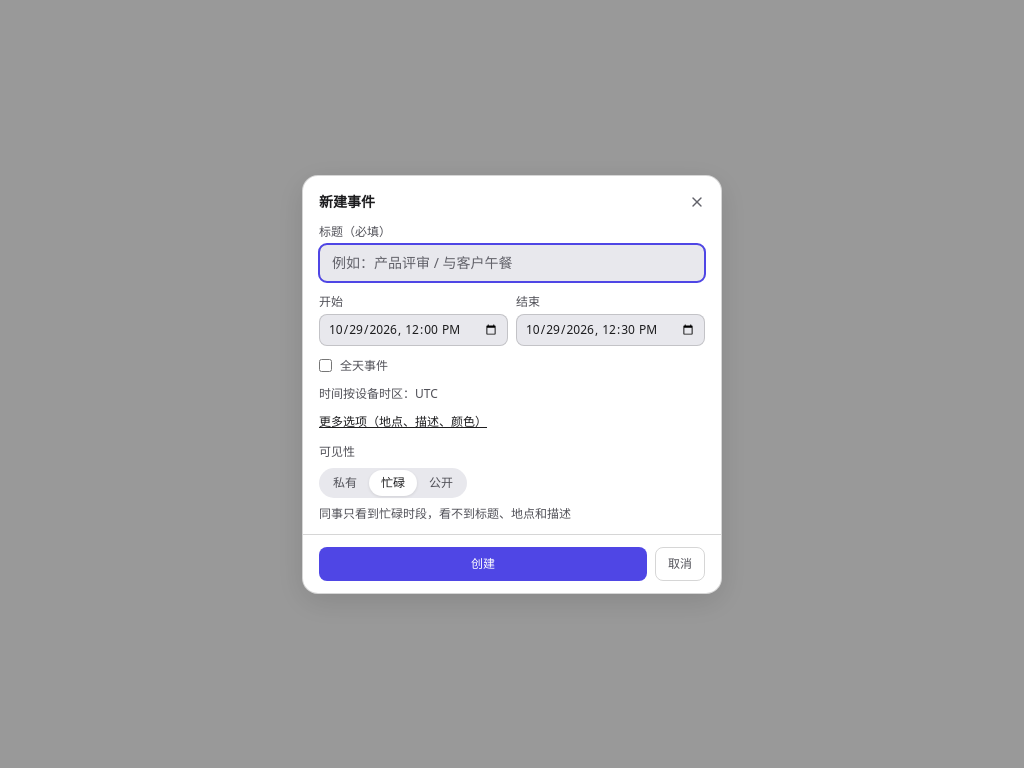
Test: EventEditor 新建模式（回归：点“新增”无法录入文字） › 结束时间不晚于开始时间时拒绝保存
Type "时间倒挂" into the field named "事件标题".
click(512, 262); type("时间倒挂")  # box [319, 244, 705, 282]
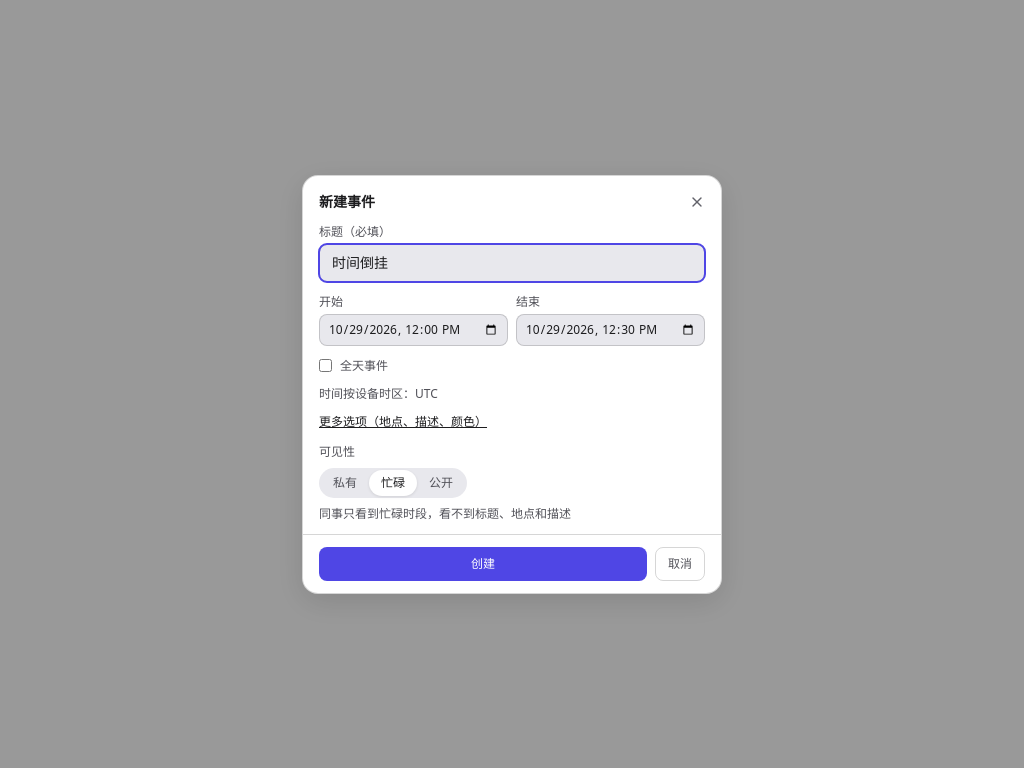
Replace the text in the field named "开始时间" with "2026-10-26T15:00" at (414, 330), box [319, 314, 508, 346]
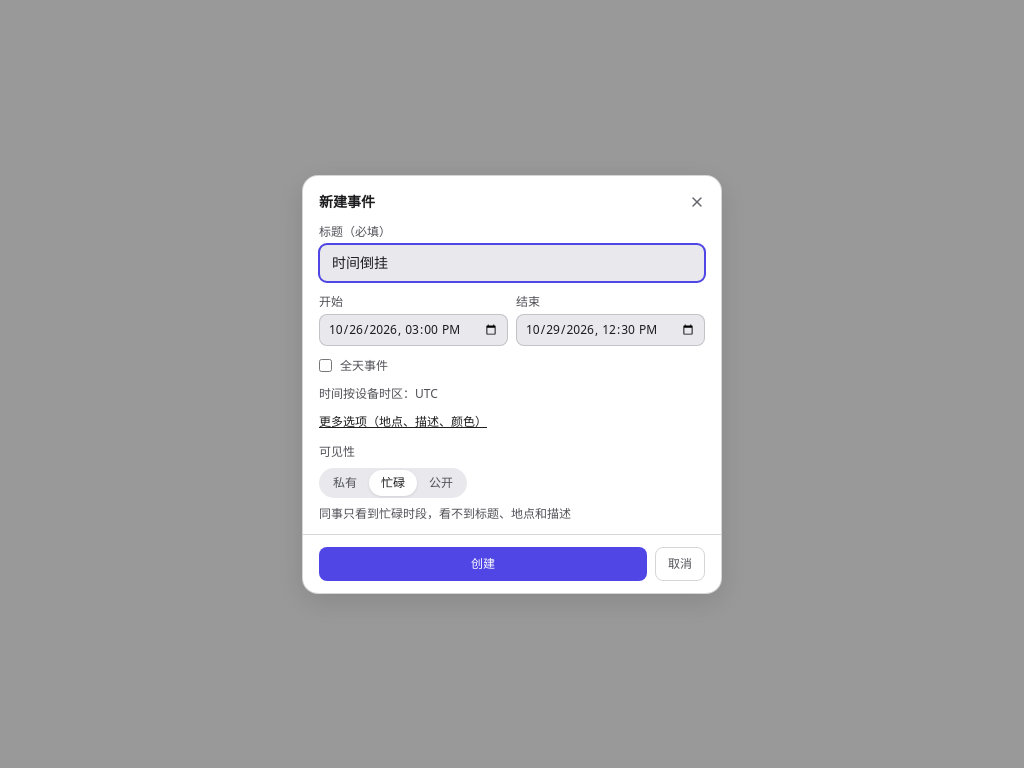
Replace the text in the field named "结束时间" with "2026-10-26T14:00" at (610, 330), box [516, 314, 705, 346]
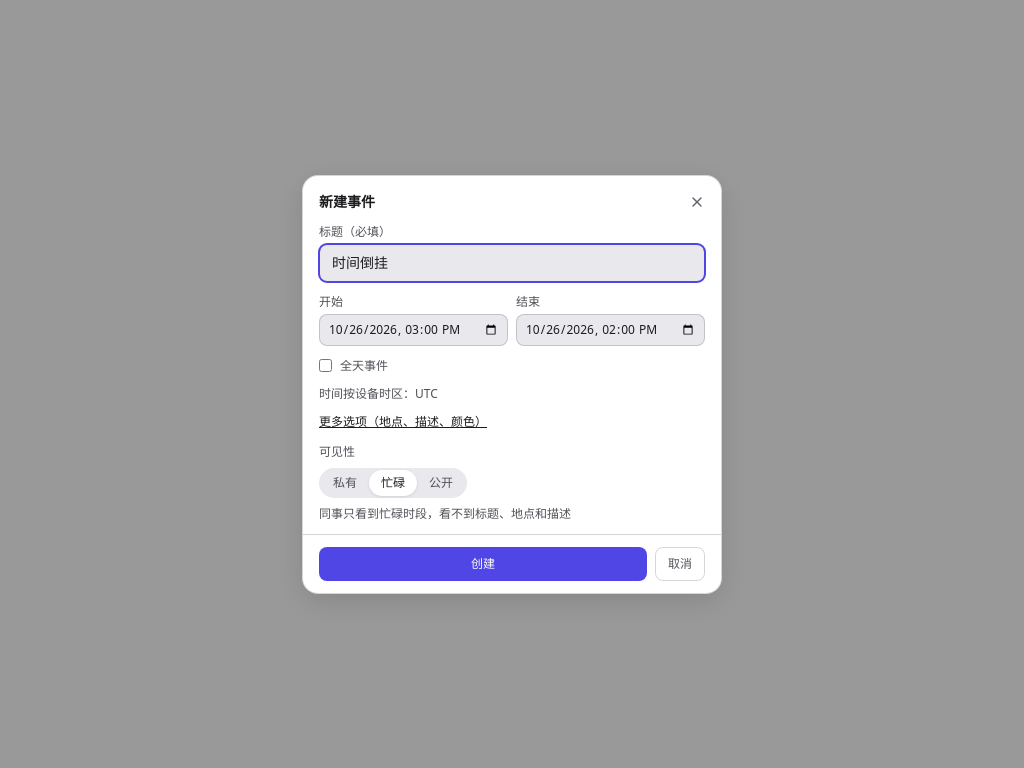
Click the button "创建".
click(483, 564)  # box [319, 546, 647, 580]
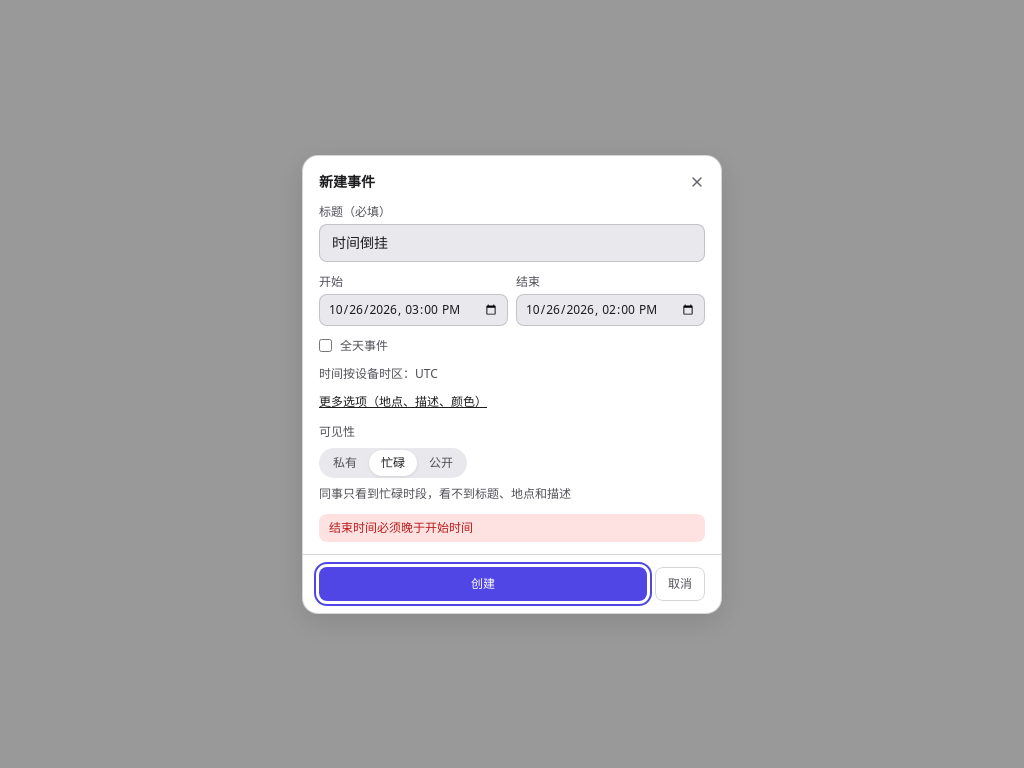
Now the text "结束时间必须晚于开始时间" is shown, box [319, 514, 705, 542]
